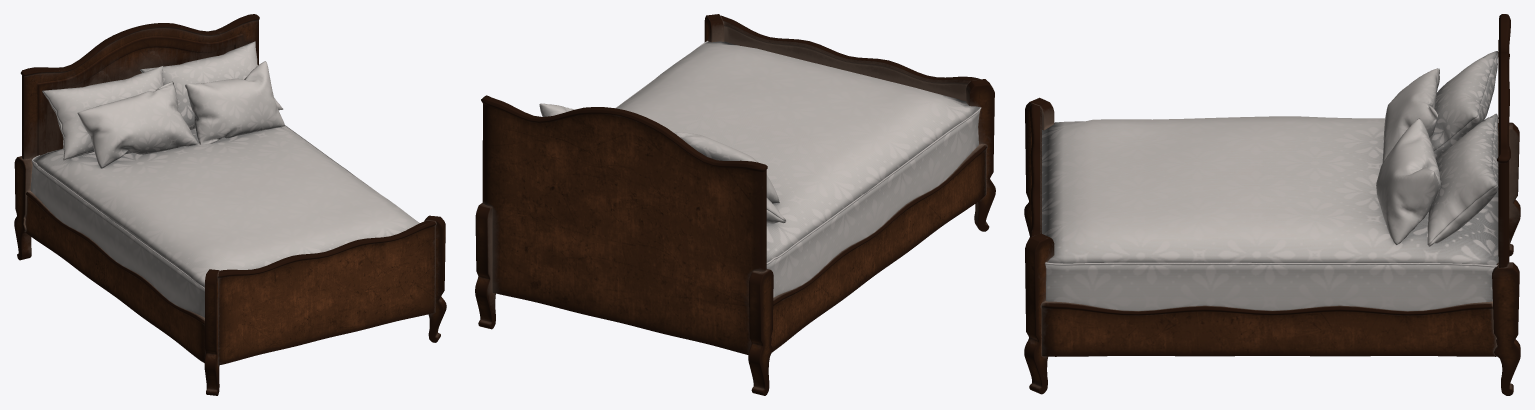
File: victorian_bed.glb
3 renders of one model, left to right at view 1: azimuth 30°, elevation 25°; view 2: azimuth 150°, elevation 25°; view 3: azimuth 270°, elevation 25°, orthographic. The views are drawn at different scales.
Visible parts, largest first — view 1: victorian_bed_wood, victorian_bed_mattres, pollows; view 2: victorian_bed_wood, victorian_bed_mattres, pollows; view 3: victorian_bed_mattres, victorian_bed_wood, pollows.
Boxes of the visible parts, bbox=[...] form: victorian_bed_wood: bbox=[14, 14, 446, 395]; victorian_bed_mattres: bbox=[30, 125, 419, 317]; pollows: bbox=[42, 41, 284, 168]; victorian_bed_wood: bbox=[475, 14, 995, 395]; victorian_bed_mattres: bbox=[615, 40, 981, 297]; pollows: bbox=[539, 103, 785, 223]; victorian_bed_mattres: bbox=[1042, 116, 1498, 311]; victorian_bed_wood: bbox=[1024, 14, 1520, 395]; pollows: bbox=[1376, 51, 1498, 246].
Bounding box in the file's own units: 2.13 × 1.73 × 3.01.
Materials: 3 (3 with a texture image).
